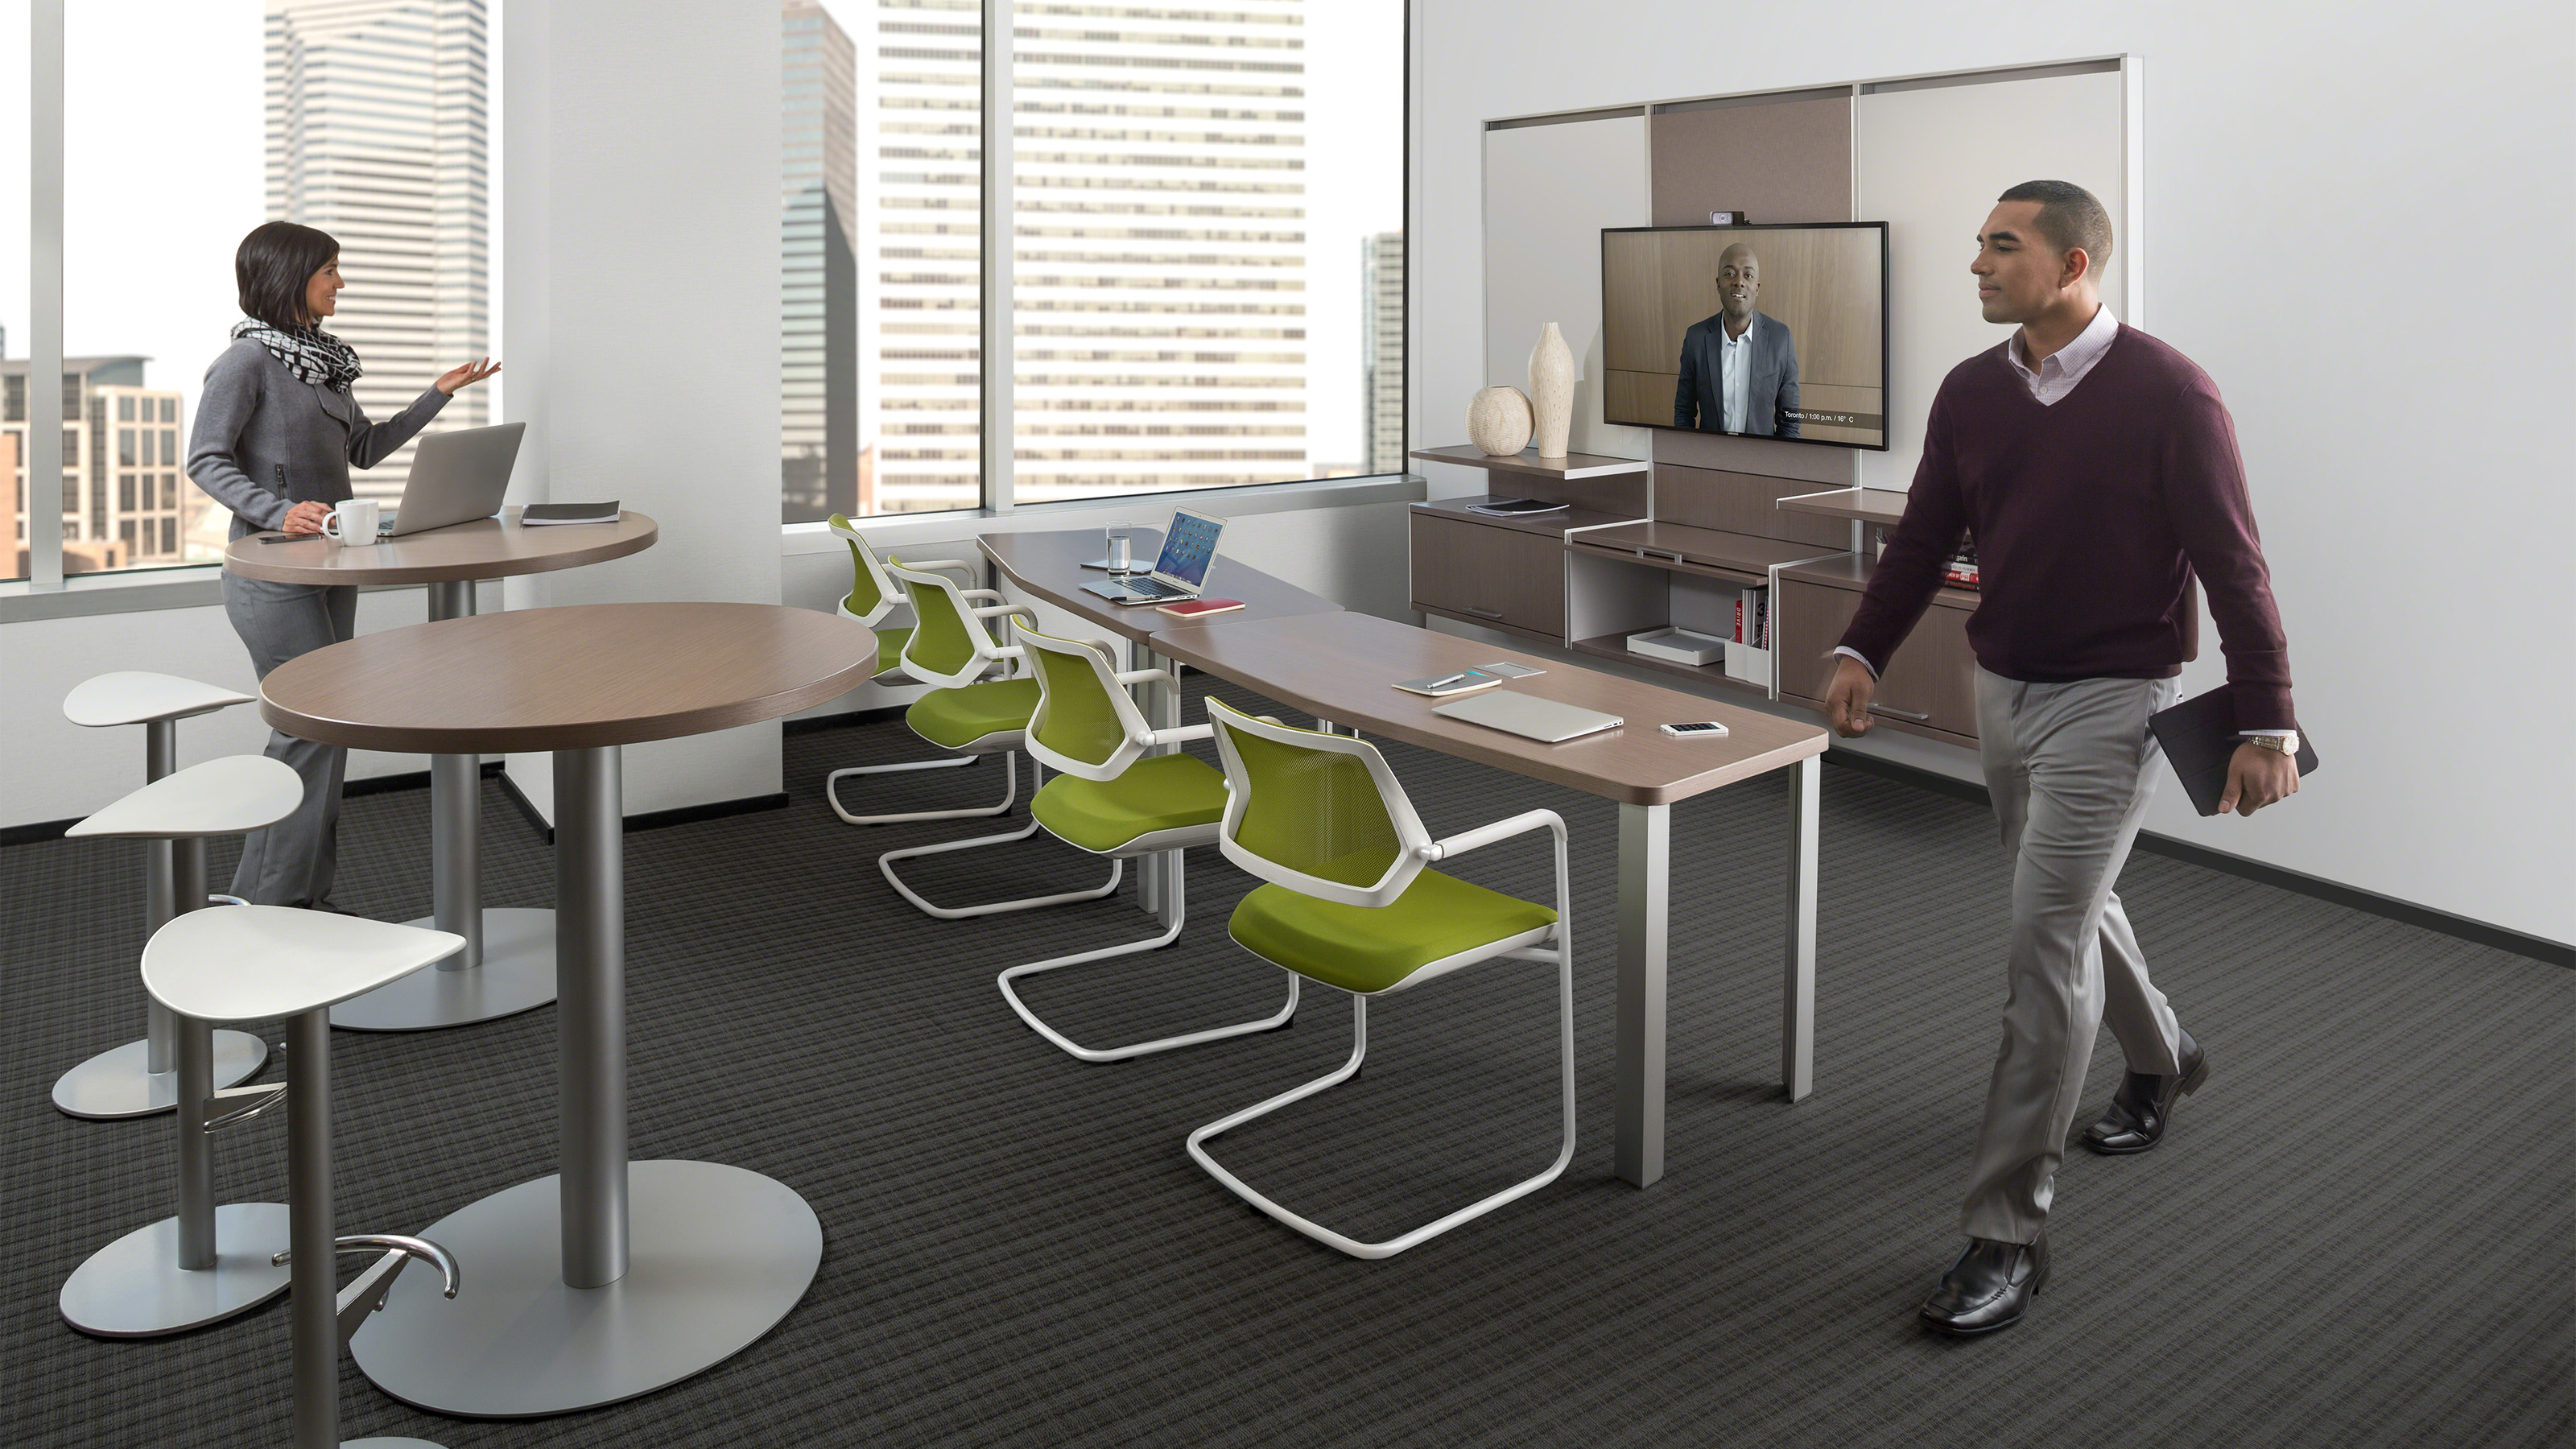conference_table: (972, 532, 1808, 1191), (260, 601, 881, 1416), (227, 501, 657, 1023)
